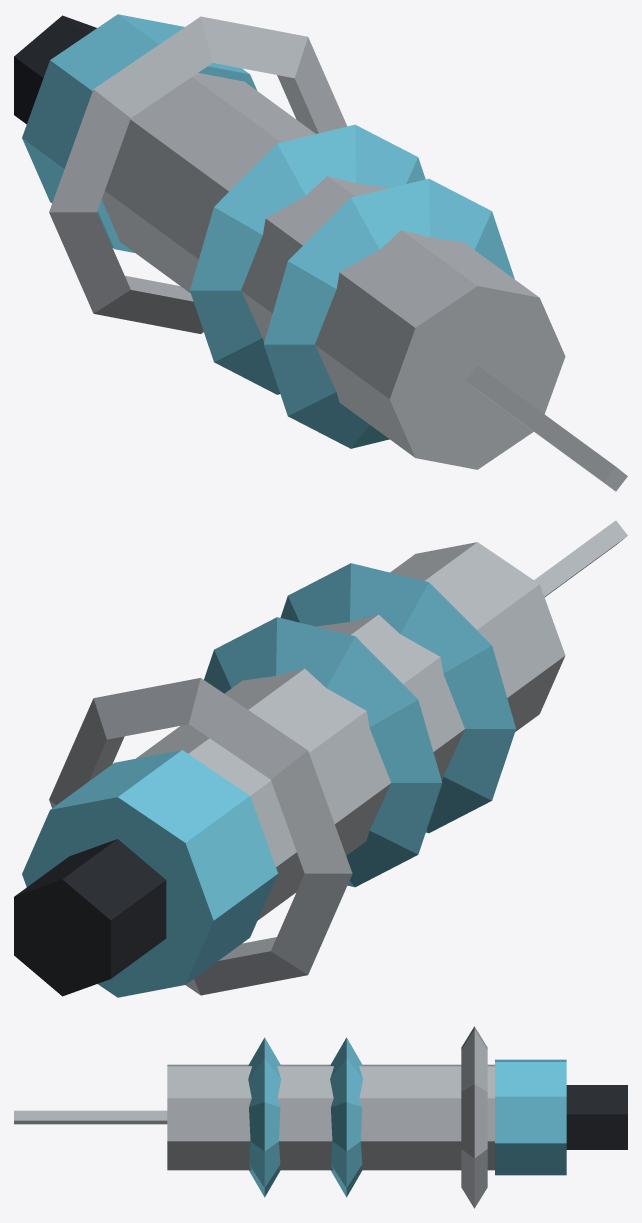
Rendered from stim-wisdom.glb.
The picture shows the model from 3 angles, top to bottom: view 1: azimuth 30°, elevation 25°; view 2: azimuth 150°, elevation 25°; view 3: azimuth 270°, elevation 25°; orthographic projection. The views are drawn at different scales.
Parts seen in each view (by area): view 1: m; view 2: m; view 3: m.
Part boxes in pixels (bbox=[...]): m: bbox=[14, 14, 627, 491]; m: bbox=[14, 520, 627, 997]; m: bbox=[14, 1026, 627, 1208].
Bounding box in the file's own units: 0.0283 × 0.0283 × 0.0893.
